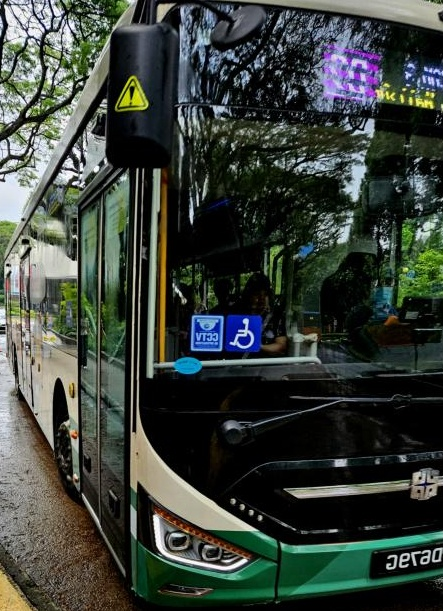bus: (319, 38, 381, 108)
